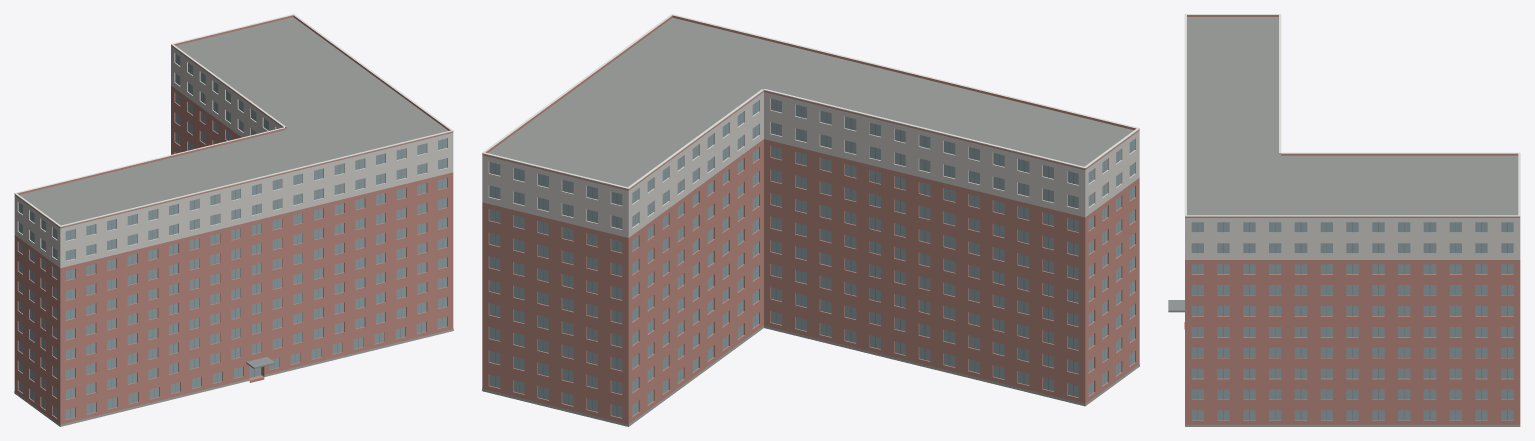
The picture shows the model from 3 angles, left to right: view 1: azimuth 30°, elevation 25°; view 2: azimuth 150°, elevation 25°; view 3: azimuth 270°, elevation 25°; orthographic projection. The views are drawn at different scales.
Parts seen in each view (by area): view 1: b1228625126__wall, b1228625126__roof, b1228625126__glass, b1228625126__wall2, b1228625126__trim, b1228625126__frame, b1228625126__parapet, b1228625126__base; view 2: b1228625126__wall, b1228625126__roof, b1228625126__glass, b1228625126__wall2, b1228625126__frame, b1228625126__trim, b1228625126__parapet, b1228625126__base; view 3: b1228625126__wall, b1228625126__roof, b1228625126__glass, b1228625126__wall2, b1228625126__trim, b1228625126__frame, b1228625126__parapet, b1228625126__base.
Part boxes in pixels (x1,y1,x2,y2): b1228625126__wall: (14,86,453,426); b1228625126__roof: (19,17,448,225); b1228625126__glass: (18,53,447,419); b1228625126__wall2: (14,46,453,267); b1228625126__trim: (14,14,453,227); b1228625126__frame: (21,55,442,418); b1228625126__parapet: (14,15,453,228); b1228625126__base: (14,329,453,426); b1228625126__wall: (482,139,1139,426); b1228625126__roof: (488,18,1133,187); b1228625126__glass: (489,98,1134,417); b1228625126__wall2: (482,92,1139,237); b1228625126__frame: (495,100,1131,416); b1228625126__trim: (482,14,1139,189); b1228625126__parapet: (482,15,1139,190); b1228625126__base: (482,325,1139,426); b1228625126__wall: (1185,260,1520,424); b1228625126__roof: (1187,17,1518,215); b1228625126__glass: (1191,222,1513,420); b1228625126__wall2: (1185,218,1520,259); b1228625126__trim: (1184,14,1520,216); b1228625126__frame: (1197,222,1507,420); b1228625126__parapet: (1185,15,1520,217); b1228625126__base: (1185,424,1520,426).
Bounding box in the file's own units: 74.78 × 36.75 × 55.08.
